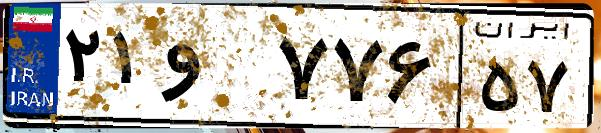1: (110, 28, 158, 98)
2: (57, 26, 110, 100)
5: (475, 38, 525, 113)
6: (385, 28, 445, 110)
7: (270, 28, 330, 110), (330, 28, 385, 110), (525, 38, 570, 115)
و: (158, 20, 270, 120)
